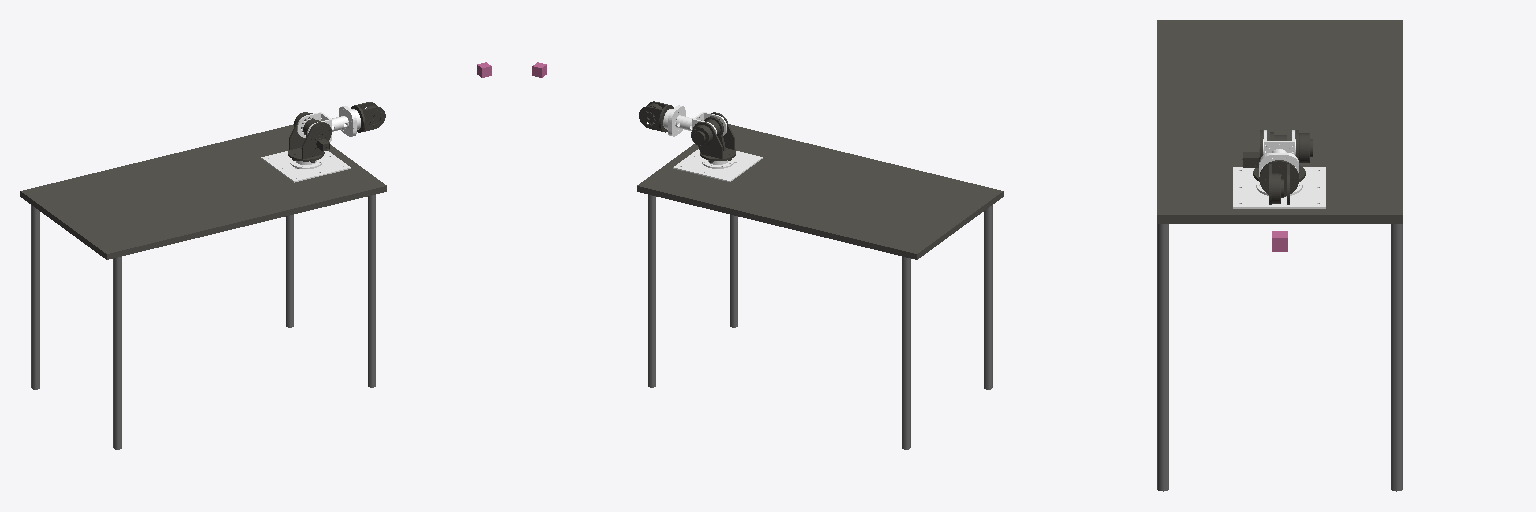
URDF robot description (daadbot):
<?xml version='1.0' encoding='utf-8'?>
<robot name="daadbot">
  <gazebo>
    <plugin filename="gz_ros2_control-system" name="gz_ros2_control::GazeboSimROS2ControlPlugin">
      <parameters>/home/maryammahmood/daadbot_manipulator_ws/install/daadbot_controller/share/daadbot_controller/config/pos_trajectory_controller.yaml</parameters>
    </plugin>
    <plugin filename="ignition-gazebo-forcetorque-system" name="ignition::gazebo::systems::ForceTorque">
            </plugin>
  </gazebo>
  <ros2_control name="Manipulator" type="system">
    <hardware>
      <plugin>gz_ros2_control/GazeboSimSystem</plugin>
    </hardware>
    <joint name="joint_1">
      <command_interface name="position">
        <param name="min">-0.1</param>
        <param name="max">3.2</param>
      </command_interface>
      <state_interface name="position" />
      <state_interface name="velocity" />
      <state_interface name="effort" />
    </joint>
    <joint name="joint_2">
      <command_interface name="position">
        <param name="min">-3.307</param>
        <param name="max">0.5236</param>
      </command_interface>
      <state_interface name="position" />
      <state_interface name="velocity" />
      <state_interface name="effort" />
    </joint>
    <joint name="joint_3">
      <command_interface name="position">
        <param name="min">-0.1</param>
        <param name="max">3.2</param>
      </command_interface>
      <state_interface name="position" />
      <state_interface name="velocity" />
      <state_interface name="effort" />
    </joint>
  </ros2_control>
  <link name="table_top">
    <visual>
      <origin xyz="0 0 1.0" />
      <geometry>
        <box size="1.5 0.8 0.03" />
      </geometry>
      <material name="">
        <color rgba="0.388 0.376 0.357 1" />
      </material>
    </visual>
    <collision>
      <origin xyz="0 0 1.0" />
      <geometry>
        <box size="1.5 0.8 0.03" />
      </geometry>
    </collision>
    <inertial>
      <origin xyz="0 0 1.0" />
      <mass value="5.0" />
      <inertia ixx="0.1" ixy="0" ixz="0" iyy="0.1" iyz="0" izz="0.1" />
    </inertial>
  </link>
  <gazebo reference="table_top">
    <static>true</static>
    <surface>
      <contact>
        <ode>
          <kp>100000.0</kp>
          <kd>1000.0</kd>
        </ode>
      </contact>
      <friction>
        <ode>
          <mu>1.0</mu>
          <mu2>1.0</mu2>
        </ode>
      </friction>
    </surface>
  </gazebo>
  <link name="front_left_leg">
    <visual>
      <origin xyz="0 0 0.5" />
      <geometry>
        <cylinder length="1.0" radius="0.02" />
      </geometry>
      <material name="">
        <color rgba="0.5 0.5 0.5 1" />
      </material>
    </visual>
    <collision>
      <origin xyz="0 0 0.5" />
      <geometry>
        <cylinder length="1.0" radius="0.02" />
      </geometry>
    </collision>
    <inertial>
      <origin xyz="0 0 0.5" />
      <mass value="1.0" />
      <inertia ixx="0.01" ixy="0" ixz="0" iyy="0.01" iyz="0" izz="0.01" />
    </inertial>
  </link>
  <joint name="front_left_leg_joint" type="fixed">
    <parent link="table_top" />
    <child link="front_left_leg" />
    <origin xyz="0.68 0.38 0.0" />
  </joint>
  <link name="front_right_leg">
    <visual>
      <origin xyz="0 0 0.5" />
      <geometry>
        <cylinder length="1.0" radius="0.02" />
      </geometry>
      <material name="">
        <color rgba="0.5 0.5 0.5 1" />
      </material>
    </visual>
    <collision>
      <origin xyz="0 0 0.5" />
      <geometry>
        <cylinder length="1.0" radius="0.02" />
      </geometry>
    </collision>
    <inertial>
      <origin xyz="0 0 0.5" />
      <mass value="1.0" />
      <inertia ixx="0.01" ixy="0" ixz="0" iyy="0.01" iyz="0" izz="0.01" />
    </inertial>
  </link>
  <joint name="front_right_leg_joint" type="fixed">
    <parent link="table_top" />
    <child link="front_right_leg" />
    <origin xyz="0.68 -0.38 0.0" />
  </joint>
  <link name="back_left_leg">
    <visual>
      <origin xyz="0 0 0.5" />
      <geometry>
        <cylinder length="1.0" radius="0.02" />
      </geometry>
      <material name="">
        <color rgba="0.5 0.5 0.5 1" />
      </material>
    </visual>
    <collision>
      <origin xyz="0 0 0.5" />
      <geometry>
        <cylinder length="1.0" radius="0.02" />
      </geometry>
    </collision>
    <inertial>
      <origin xyz="0 0 0.5" />
      <mass value="1.0" />
      <inertia ixx="0.01" ixy="0" ixz="0" iyy="0.01" iyz="0" izz="0.01" />
    </inertial>
  </link>
  <joint name="back_left_leg_joint" type="fixed">
    <parent link="table_top" />
    <child link="back_left_leg" />
    <origin xyz="-0.68 0.38 0.0" />
  </joint>
  <link name="back_right_leg">
    <visual>
      <origin xyz="0 0 0.5" />
      <geometry>
        <cylinder length="1.0" radius="0.02" />
      </geometry>
      <material name="">
        <color rgba="0.5 0.5 0.5 1" />
      </material>
    </visual>
    <collision>
      <origin xyz="0 0 0.5" />
      <geometry>
        <cylinder length="1.0" radius="0.02" />
      </geometry>
    </collision>
    <inertial>
      <origin xyz="0 0 0.5" />
      <mass value="1.0" />
      <inertia ixx="0.01" ixy="0" ixz="0" iyy="0.01" iyz="0" izz="0.01" />
    </inertial>
  </link>
  <joint name="back_right_leg_joint" type="fixed">
    <parent link="table_top" />
    <child link="back_right_leg" />
    <origin xyz="-0.68 -0.38 0.0" />
  </joint>
  <link name="world" />
  <joint name="table_joint" type="fixed">
    <parent link="world" />
    <child link="table_top" />
    <origin rpy="0 0 0" xyz="0 0 0" />
  </joint>
  <link name="camera_link">
    <visual>
      <geometry>
        <box size="0.05 0.05 0.05" />
      </geometry>
      <material name="" />
    </visual>
  </link>
  <joint name="camera_joint" type="fixed">
    <parent link="table_top" />
    <child link="camera_link" />
    <origin rpy="0 0 0" xyz="1.5 0.0 1.27" />
  </joint>
  <joint name="base_joint" type="fixed">
    <parent link="table_top" />
    <child link="base_link" />
    <origin rpy="0 0 0" xyz="0.55 0 1.017" />
  </joint>
  <link name="base_link">
    <inertial>
      <origin rpy="0 0 0" xyz="-0.00246645540256236 -0.00131466478904116 0.00320374562257973" />
      <mass value="6.91122989464636" />
      <inertia ixx="0.0466171750852481" ixy="0.00010076855342015" ixz="5.14819747192778E-08" iyy="0.0464821203083076" iyz="-1.44621889265211E-07" izz="0.0929840869855057" />
    </inertial>
    <visual>
      <origin rpy="0 0 0" xyz="0 0 0" />
      <geometry>
        <mesh filename="package://daadbot_desc/meshes/base_link.STL" />
      </geometry>
      <material name="">
        <color rgba="1 1 1 1" />
      </material>
    </visual>
    <collision>
      <origin rpy="0 0 0" xyz="0 0 0" />
      <geometry>
        <mesh filename="package://daadbot_desc/meshes/base_link.STL" />
      </geometry>
    </collision>
  </link>
  <link name="Link_1">
    <inertial>
      <origin rpy="0 0 0" xyz="0.0222146013900772 2.73568109690481E-06 0.0747841784291177" />
      <mass value="2.34948803406793" />
      <inertia ixx="0.00332922517000865" ixy="1.64875308454708E-07" ixz="-0.000433929392474112" iyy="0.00524724735039028" iyz="2.38505609352415E-07" izz="0.00419520671173006" />
    </inertial>
    <visual>
      <origin rpy="0 0 0" xyz="0 0 0" />
      <geometry>
        <mesh filename="package://daadbot_desc/meshes/Link_1.STL" />
      </geometry>
      <material name="">
        <color rgba="0.329 0.322 0.302 1" />
      </material>
    </visual>
    <collision>
      <origin rpy="0 0 0" xyz="0 0 0" />
      <geometry>
        <mesh filename="package://daadbot_desc/meshes/Link_1.STL" />
      </geometry>
    </collision>
  </link>
  <joint name="joint_1" type="revolute">
    <origin rpy="0 0 0" xyz="-0.0029638 -0.0015759 0.04796" />
    <parent link="base_link" />
    <child link="Link_1" />
    <axis xyz="0 0 -1" />
    <limit effort="200.0" lower="-0.1" upper="3.2" velocity="12.776" />
  </joint>
  <link name="daadbot/joint_1/tcp_fts_sensor_joint_1" />
  <joint name="tcp_fts_joint_1" type="fixed">
    <parent link="base_link" />
    <child link="daadbot/joint_1/tcp_fts_sensor_joint_1" />
    <origin rpy="0 0 0" xyz="-0.0029638 -0.0015759 0.04796" />
  </joint>
  <gazebo reference="joint_1">
    <sensor name="tcp_fts_sensor_joint_1" type="force_torque">
      <always_on>true</always_on>
      <update_rate>1000</update_rate>
      <visualize>true</visualize>
      <force_torque>
        <frame>child</frame>
        <measure_direction>child_to_parent</measure_direction>
      </force_torque>
      <pose>0 0 0 0 0 0</pose>
    </sensor>
  </gazebo>
  <link name="Link_2">
    <inertial>
      <origin rpy="0 0 0" xyz="0.121210588587965 0.000230649813345946 -0.049540637756618" />
      <mass value="2.24401700155026" />
      <inertia ixx="0.00250860362" ixy="-1.95804141e-05" ixz="1.06350024e-06" iyy="0.00852523380" iyz="4.22077320e-07" izz="0.00807927033" />
    </inertial>
    <visual>
      <origin rpy="0 0 0" xyz="0 0 0" />
      <geometry>
        <mesh filename="package://daadbot_desc/meshes/Link_2.STL" />
      </geometry>
      <material name="">
        <color rgba="1 1 1 1" />
      </material>
    </visual>
    <collision>
      <origin rpy="0 0 0" xyz="0 0 0" />
      <geometry>
        <mesh filename="package://daadbot_desc/meshes/Link_2.STL" />
      </geometry>
    </collision>
  </link>
  <joint name="joint_2" type="revolute">
    <origin rpy="1.5707963267949 0 0" xyz="0.0400000000000002 -0.050000000000002 0.114463048454132" />
    <parent link="Link_1" />
    <child link="Link_2" />
    <axis xyz="0 0 -1" />
    <limit effort="200.0" lower="-3.307" upper="0.5236" velocity="12.776" />
    <sensor name="force_torque" type="force_torque">
      <update_rate>30</update_rate>
    </sensor>
  </joint>
  <link name="daadbot/joint_2/tcp_fts_sensor_joint_2" />
  <joint name="tcp_fts_joint_2" type="fixed">
    <parent link="Link_1" />
    <child link="daadbot/joint_2/tcp_fts_sensor_joint_2" />
    <origin rpy="1.5707963267949 0 0" xyz="0.04 -0.05 0.114463048454132" />
  </joint>
  <gazebo reference="joint_2">
    <sensor name="tcp_fts_sensor_joint_2" type="force_torque">
      <always_on>true</always_on>
      <update_rate>100</update_rate>
      <visualize>false</visualize>
      <force_torque>
        <frame>child</frame>
        <measure_direction>child_to_parent</measure_direction>
      </force_torque>
      <pose>0 0 0 0 0 0</pose>
    </sensor>
  </gazebo>
  <link name="Link_3">
    <inertial>
      <origin rpy="0 0 0" xyz="-0.00448997206818821 -2.34751712904213E-05 0.0488571768392556" />
      <mass value="1.2718719681393" />
      <inertia ixx="0.00206983011422612" ixy="9.27500479472452E-08" ixz="3.38378548754623E-06" iyy="0.00129565231901482" iyz="2.88989653562542E-07" izz="0.00156994991003151" />
    </inertial>
    <visual>
      <origin rpy="0 0 0" xyz="0 0 0" />
      <geometry>
        <mesh filename="package://daadbot_desc/meshes/Link_3.STL" />
      </geometry>
      <material name="">
        <color rgba="0.329 0.322 0.302 1" />
      </material>
    </visual>
    <collision>
      <origin rpy="0 0 0" xyz="0 0 0" />
      <geometry>
        <mesh filename="package://daadbot_desc/meshes/Link_3.STL" />
      </geometry>
    </collision>
  </link>
  <joint name="joint_3" type="revolute">
    <origin rpy="0 1.5707963267949 0" xyz="0.234499999999998 0 -0.0495000000000002" />
    <parent link="Link_2" />
    <child link="Link_3" />
    <axis xyz="0 0 -1" />
    <limit effort="200.0" lower="-0.1" upper="3.2" velocity="12.776" />
  </joint>
  <link name="daadbot/joint_3/tcp_fts_sensor_joint_3" />
  <joint name="tcp_fts_joint_3" type="fixed">
    <parent link="Link_2" />
    <child link="daadbot/joint_3/tcp_fts_sensor_joint_3" />
    <origin rpy="0 1.5707963267949 0" xyz="0.234499999999998 0 -0.04950000000000022" />
  </joint>
  <gazebo reference="joint_3">
    <sensor name="tcp_fts_sensor_joint_3" type="force_torque">
      <always_on>true</always_on>
      <update_rate>1000</update_rate>
      <visualize>true</visualize>
      <force_torque>
        <frame>child</frame>
        <measure_direction>child_to_parent</measure_direction>
      </force_torque>
      <pose>0 0 0 0 0 0</pose>
    </sensor>
  </gazebo>
</robot>

--- What the picture shows (computed from the rendered views, not written in the file) ---
The picture shows the robot from 3 angles, left to right: view 1: azimuth 30°, elevation 25°; view 2: azimuth 150°, elevation 25°; view 3: azimuth 270°, elevation 25°; orthographic projection.
Model daadbot with 14 links and 13 joints (3 revolute, 10 fixed), rooted at world, posed every joint at zero.
Links seen in each view (by area): view 1: table_top, back_right_leg, back_left_leg, front_right_leg, Link_1, base_link, Link_2, front_left_leg, Link_3; view 2: table_top, back_left_leg, back_right_leg, front_left_leg, Link_1, base_link, front_right_leg, Link_2, Link_3; view 3: table_top, front_left_leg, front_right_leg, base_link, Link_3, Link_1, Link_2.
Boxes of the visible links, x1,y1,x2,y2 form: table_top: (20, 124, 386, 259); back_right_leg: (113, 257, 121, 449); back_left_leg: (31, 205, 39, 389); front_right_leg: (368, 195, 375, 387); Link_1: (288, 112, 331, 162); base_link: (261, 151, 350, 182); Link_2: (297, 106, 360, 141); front_left_leg: (286, 215, 293, 327); Link_3: (351, 102, 385, 132); table_top: (637, 124, 1003, 259); back_left_leg: (902, 257, 910, 449); back_right_leg: (984, 205, 992, 389); front_left_leg: (648, 195, 655, 387); Link_1: (691, 112, 735, 162); base_link: (673, 149, 762, 181); front_right_leg: (730, 215, 737, 327); Link_2: (663, 105, 726, 140); Link_3: (639, 101, 673, 132); table_top: (1157, 20, 1402, 223); front_left_leg: (1391, 224, 1402, 491); front_right_leg: (1157, 224, 1168, 491); base_link: (1233, 167, 1325, 208); Link_3: (1259, 160, 1298, 204); Link_1: (1242, 130, 1312, 181); Link_2: (1259, 130, 1298, 176).
Size in the robot's own frame: 2.27 by 0.8 by 1.29 metres.
4 mesh visuals loaded from 4 distinct referenced files (4 binary STL).
